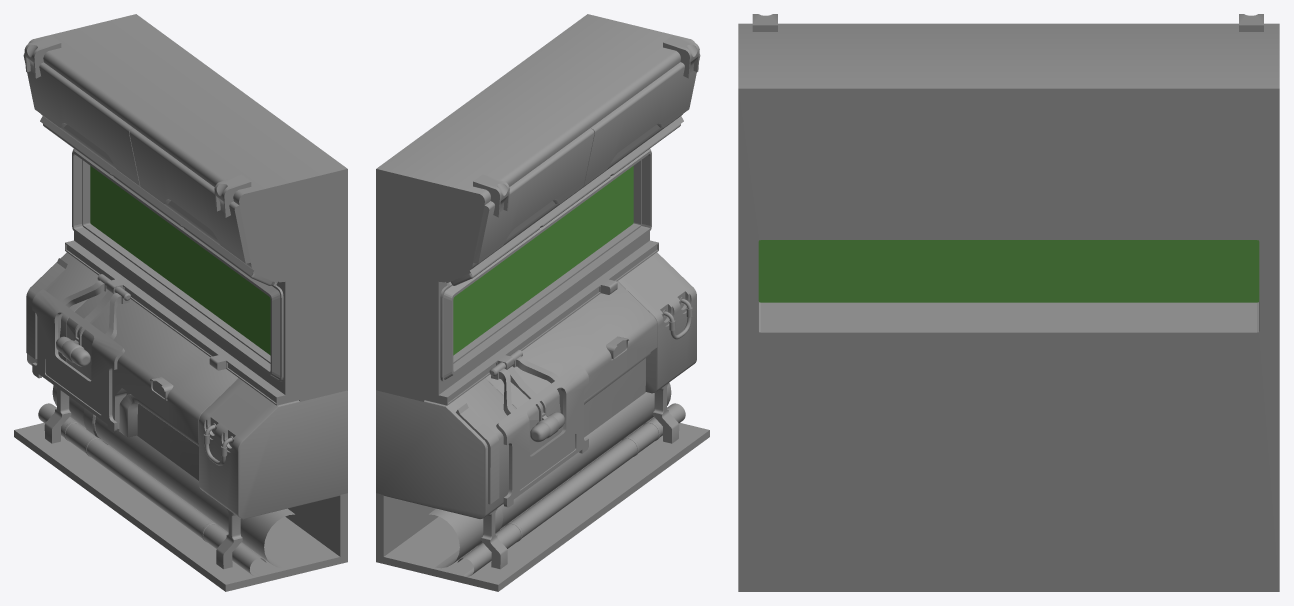
The model's file is window_2.FBX.
The picture shows the model from 3 angles, left to right: view 1: azimuth 30°, elevation 25°; view 2: azimuth 150°, elevation 25°; view 3: azimuth 270°, elevation 25°; orthographic projection. The views are drawn at different scales.
Parts seen in each view (by area): view 1: window_low; view 2: window_low; view 3: window_low.
Boxes of the visible parts, <box> form: window_low: <box>14,14,347,591</box>; window_low: <box>376,14,709,591</box>; window_low: <box>738,14,1279,591</box>.
Bounding box in the file's own units: 1.02 × 3.12 × 3.
